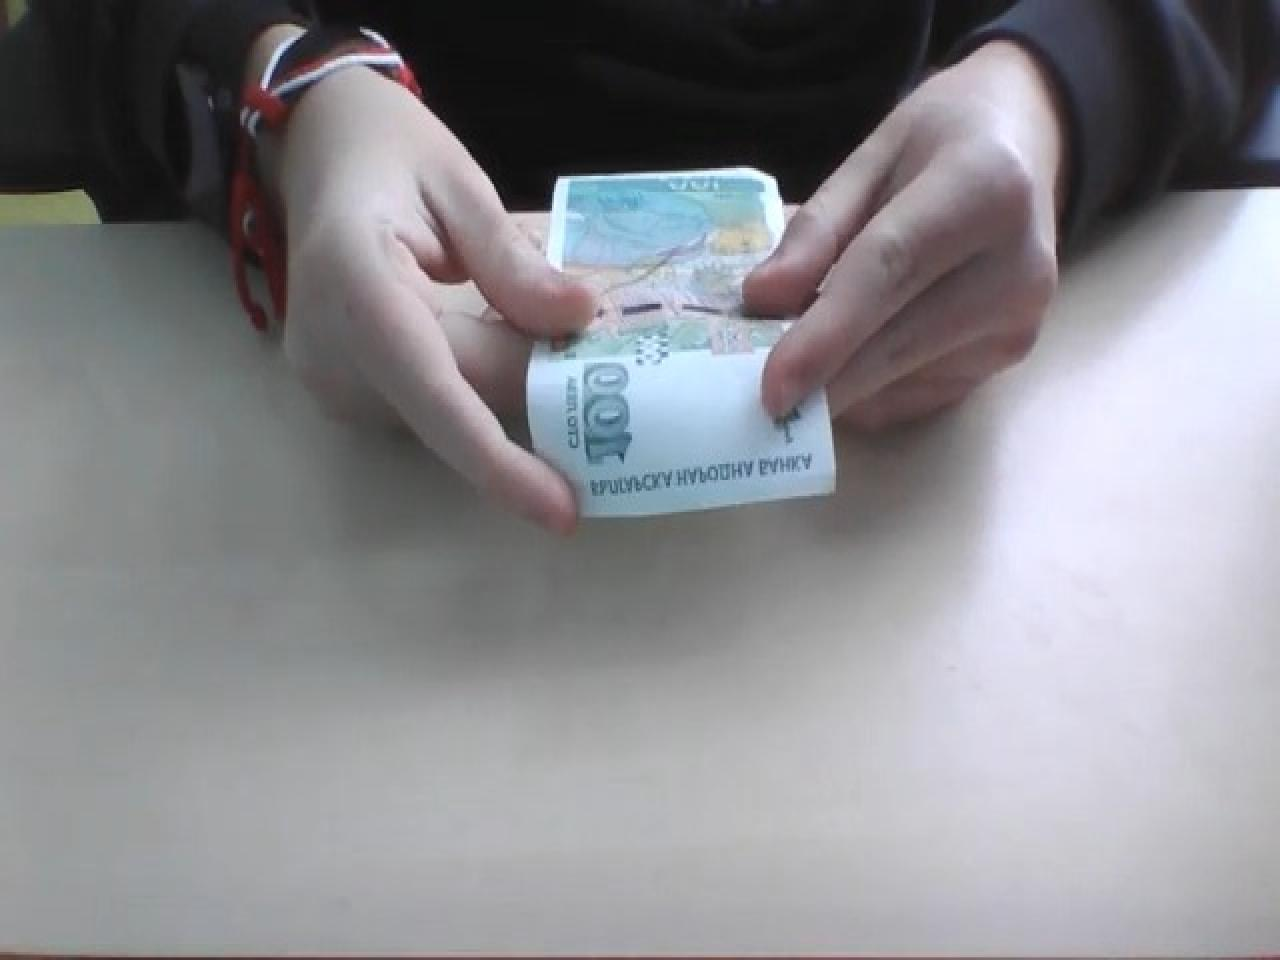100leva: (524, 162, 840, 520)
